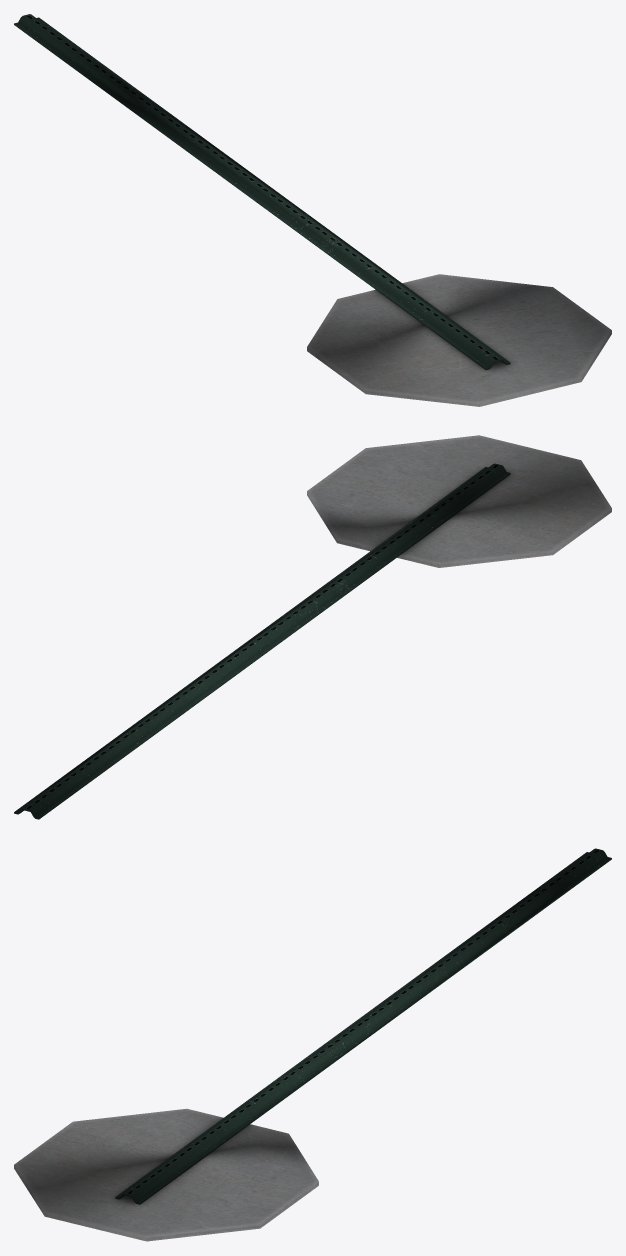
Rendered from signstop.fbx.
3 views of the same model, one above another, from view 1: azimuth 30°, elevation 25°; view 2: azimuth 150°, elevation 25°; view 3: azimuth 330°, elevation 25° (orthographic).
Parts seen in each view (by area): view 1: signstop; view 2: signstop; view 3: signstop.
Boxes of the visible parts, bbox=[...] form: signstop: bbox=[14, 14, 611, 406]; signstop: bbox=[14, 435, 611, 819]; signstop: bbox=[14, 848, 611, 1241].
Size of the model in its own units: 0.739 by 0.031 by 2.62.
